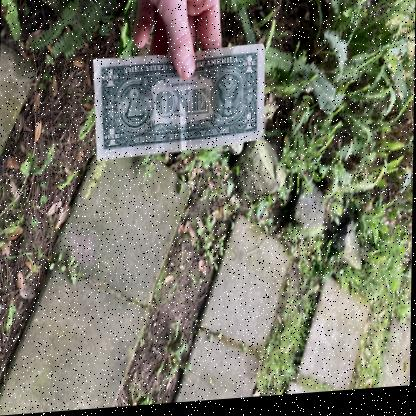one-back: (90, 42, 268, 168)
